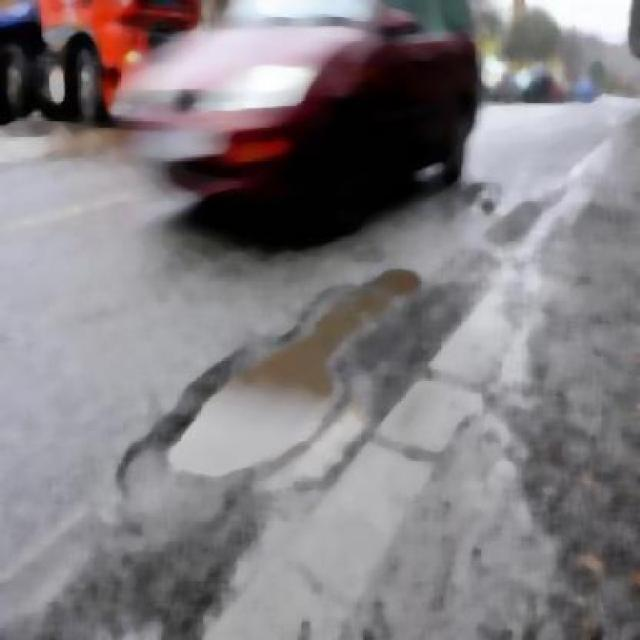Pothole: (47, 265, 492, 640)
